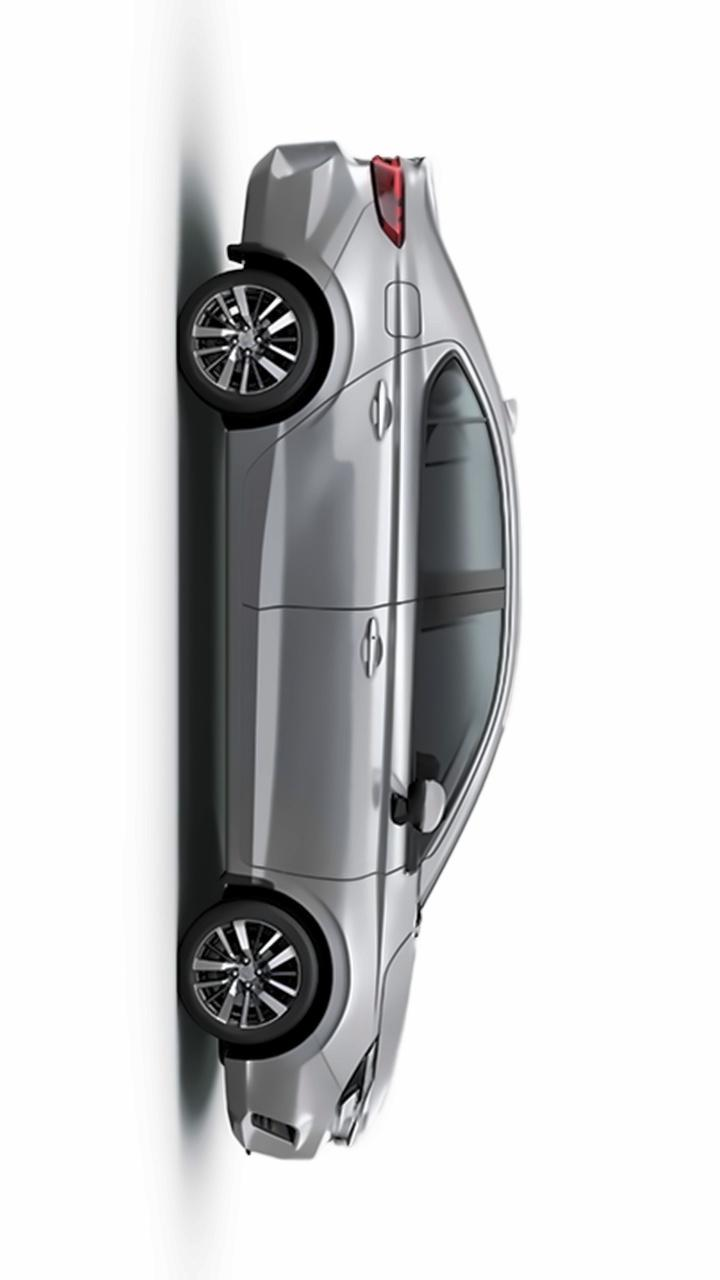Car hood: (378, 923, 412, 1101)
Driver-s door - -F-R-: (197, 573, 518, 886)
Fender - -F-R-: (218, 846, 429, 1082)
Fender - -R-R-: (240, 207, 495, 478)
Headlight - -R-: (328, 1031, 381, 1154)
Passenger-s door - -R-R-: (184, 332, 534, 626)
Rear bumper: (231, 139, 363, 292), (214, 1041, 341, 1167)
Rear light - -R-: (364, 151, 413, 247)
Side bumper - -R-: (181, 412, 298, 881)
Side mirror - -R-: (380, 763, 437, 842)
